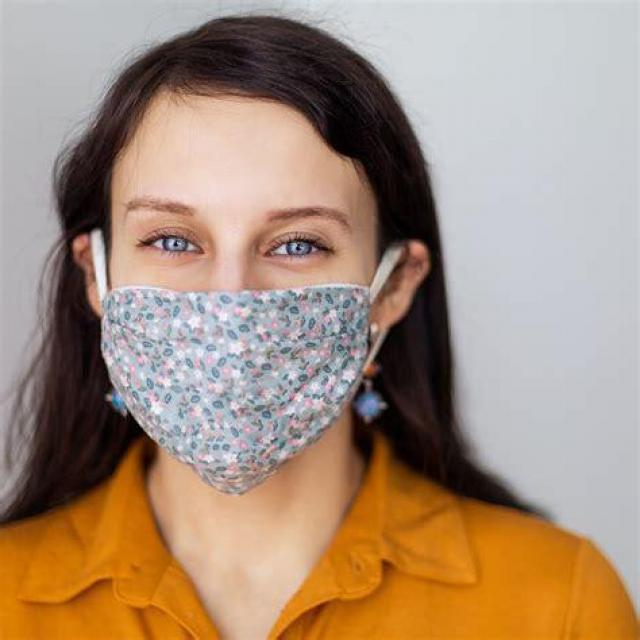face: (71, 21, 418, 472)
